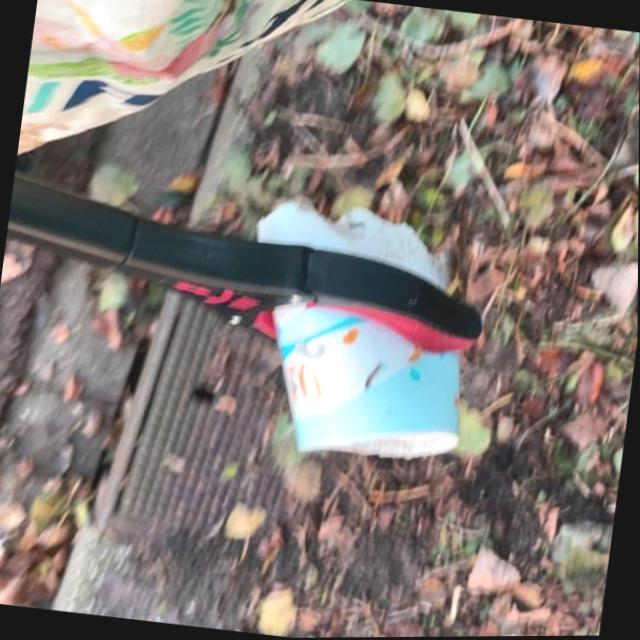Paper: (222, 183, 492, 474)
